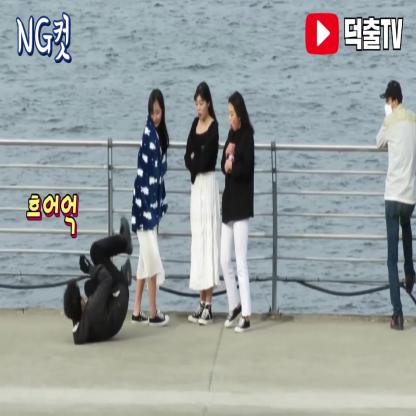Fall_Down: (62, 216, 132, 346)
